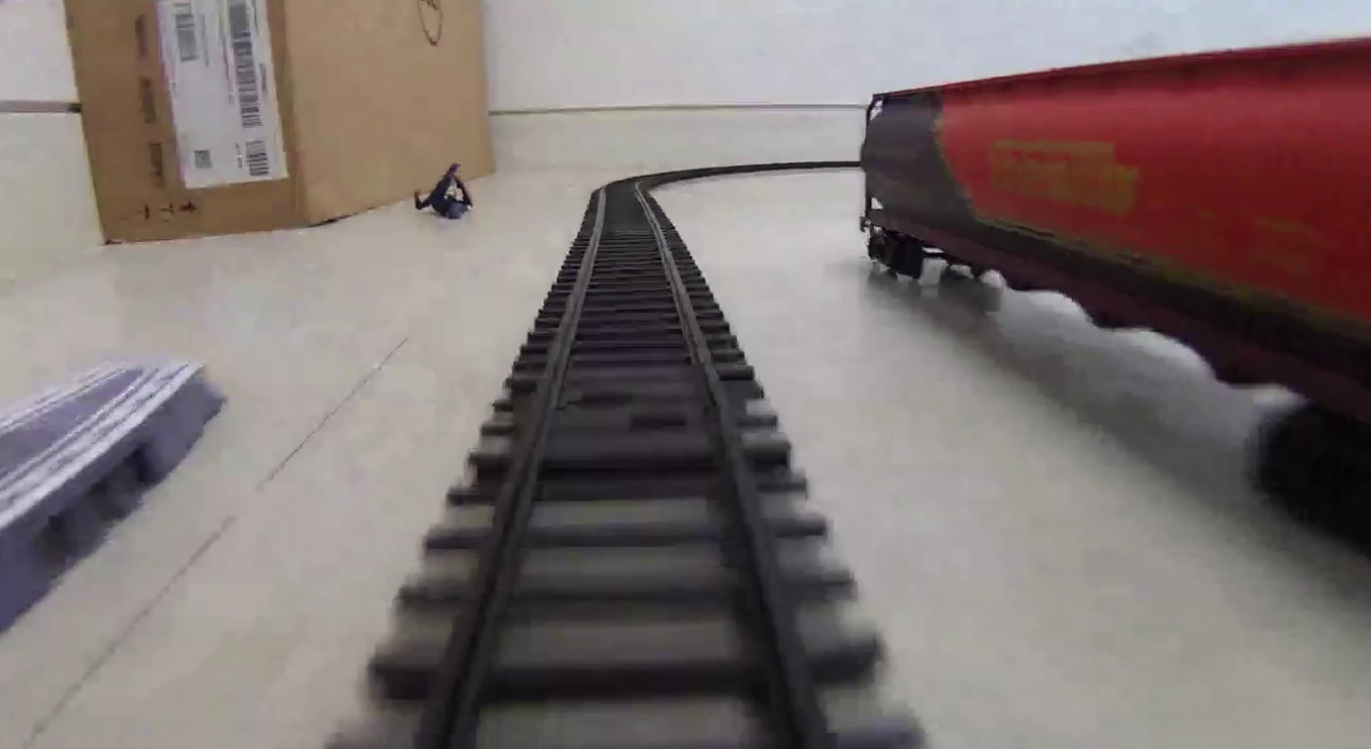people: (412, 162, 477, 222)
